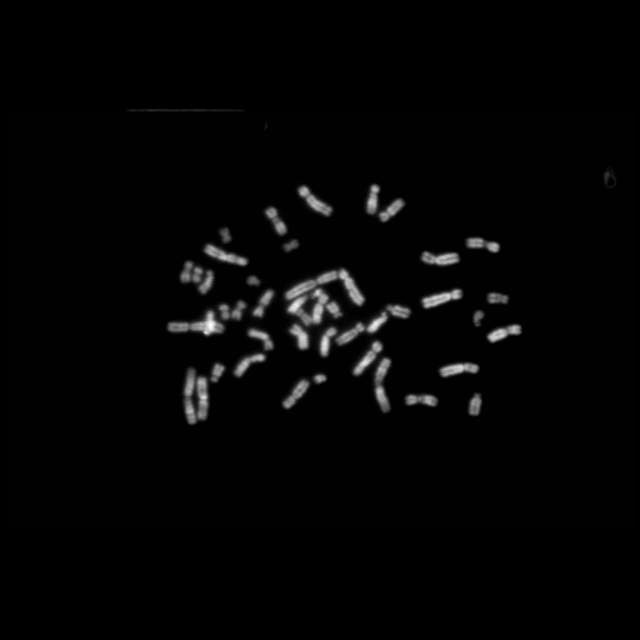chromosome: (286, 270, 338, 300), (298, 186, 332, 216), (353, 341, 382, 375), (340, 269, 364, 305), (375, 358, 391, 412), (204, 245, 246, 265), (283, 379, 309, 408), (235, 354, 265, 378), (423, 289, 463, 307), (184, 368, 196, 424), (336, 323, 364, 345), (166, 322, 224, 332), (380, 198, 404, 222), (488, 325, 520, 343), (266, 207, 286, 235), (254, 289, 274, 317), (441, 364, 479, 378), (197, 376, 209, 419), (422, 251, 458, 265), (248, 330, 272, 350), (320, 328, 336, 357), (466, 238, 499, 252), (311, 295, 327, 323), (290, 325, 308, 349), (368, 312, 386, 332), (406, 394, 436, 406), (288, 295, 307, 313), (367, 186, 379, 214), (386, 304, 409, 318), (200, 270, 212, 294), (470, 394, 482, 416), (232, 300, 244, 320), (204, 311, 214, 335), (488, 293, 508, 305), (212, 363, 224, 382), (297, 308, 311, 324), (327, 302, 341, 318), (220, 226, 232, 244), (181, 262, 191, 282), (284, 240, 298, 252), (220, 304, 230, 320), (474, 310, 484, 326), (193, 267, 202, 283), (248, 276, 260, 286), (310, 289, 320, 299), (316, 374, 326, 382)
